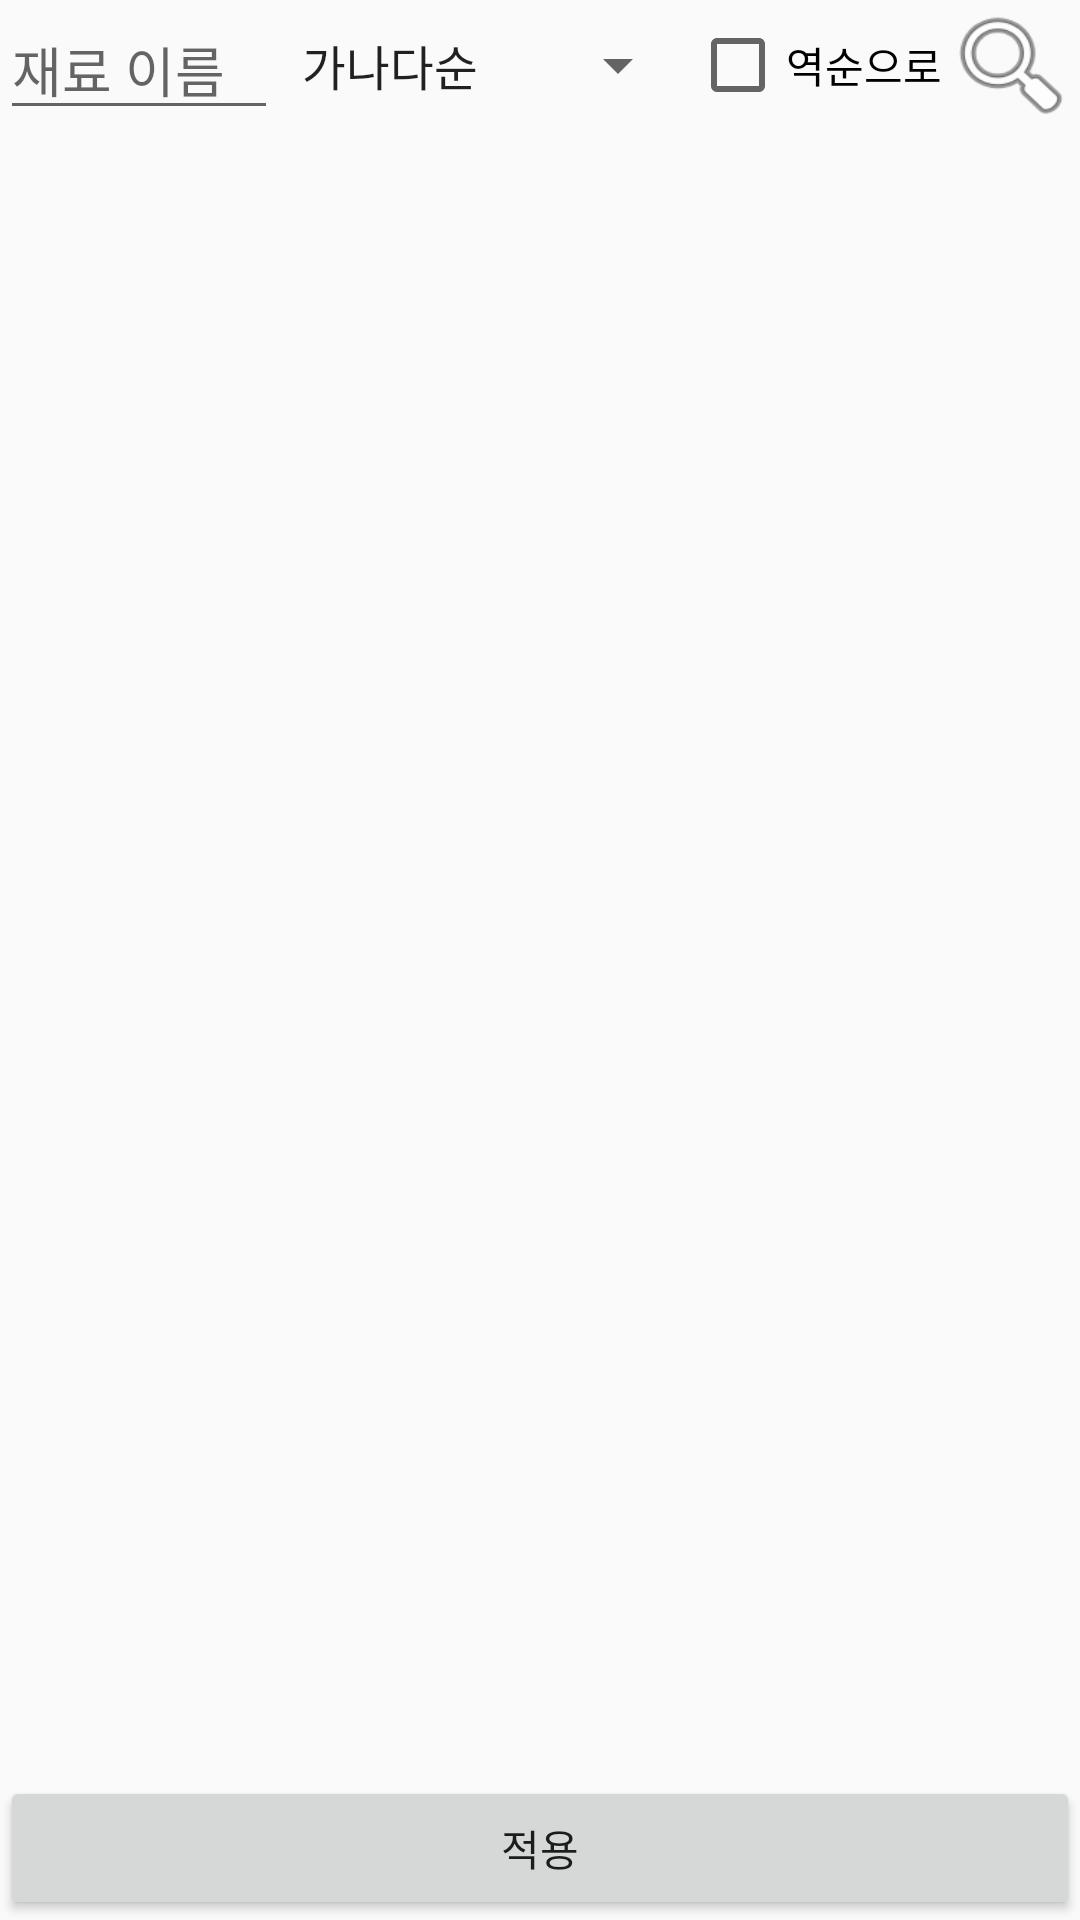

Named icons in this screenshot (1080*1920) and their bounding boxes, (x1, y1, x2, y2):
search: (960, 17, 1062, 114)
